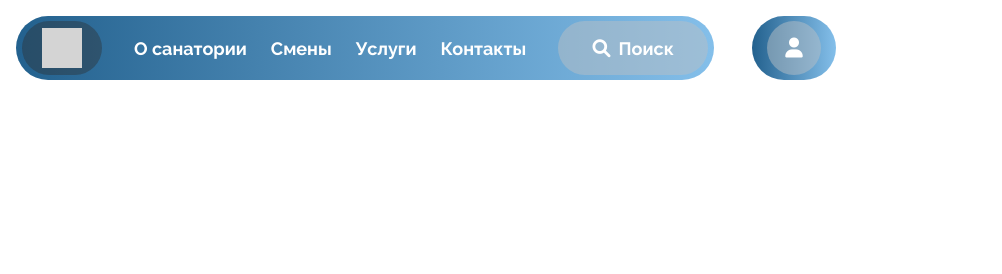
Test case: Header Component › should show user dropdown when user icon is clicked
# Click user icon to open dropdown
Click the icon with class "user-icon" at (794, 48), box [767,21,821,75]
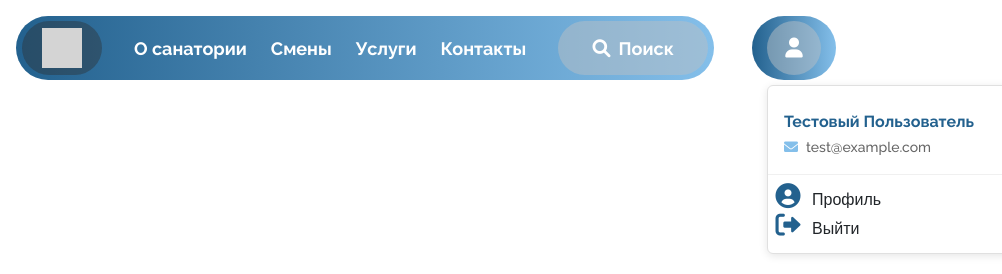
Expected: the text "Профиль" is shown, [768,183,881,209]
Expected: the text "Выйти" is shown, [768,212,859,238]
